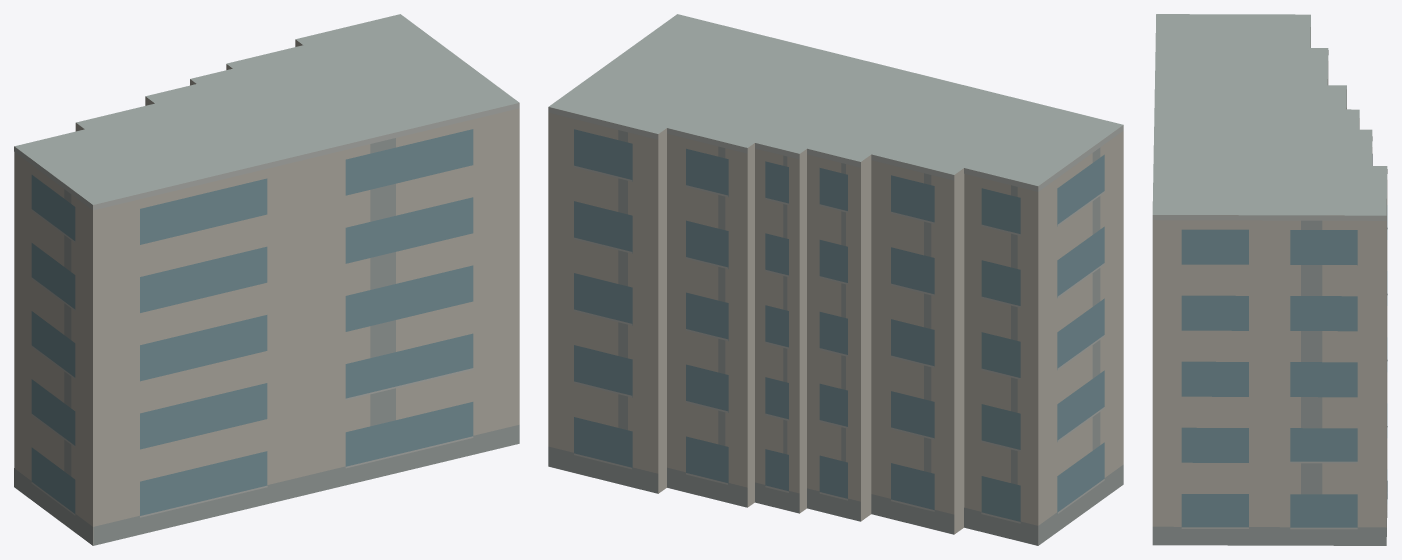
Rendered from survey-upis-32625370.glb.
3 renders of one model, left to right at view 1: azimuth 30°, elevation 25°; view 2: azimuth 150°, elevation 25°; view 3: azimuth 270°, elevation 25°, orthographic. The views are drawn at different scales.
Visible parts, largest first — view 1: survey-upis-32625370.tmp; view 2: survey-upis-32625370.tmp; view 3: survey-upis-32625370.tmp.
Boxes of the visible parts, <box> form: survey-upis-32625370.tmp: <box>14,14,519,545</box>; survey-upis-32625370.tmp: <box>548,14,1123,545</box>; survey-upis-32625370.tmp: <box>1152,14,1387,545</box>.
Bounding box in the file's own units: 19.97 × 15.25 × 9.84.
